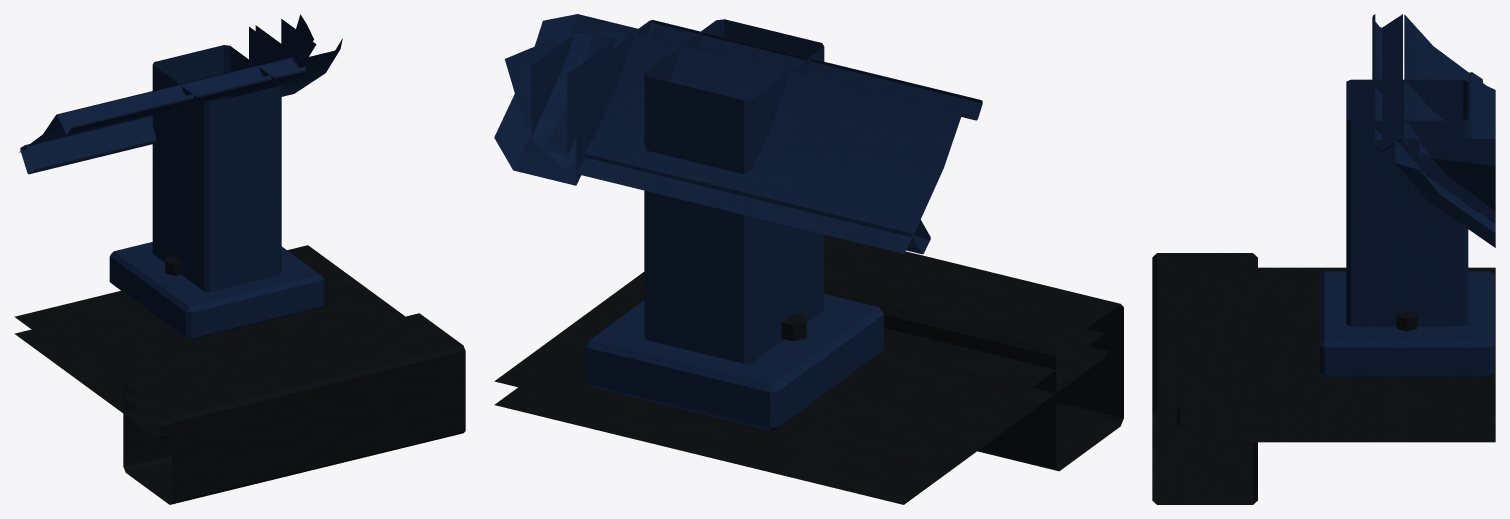
File: cell_22.obj
3 views of the same model, side by side, from view 1: azimuth 30°, elevation 25°; view 2: azimuth 150°, elevation 25°; view 3: azimuth 270°, elevation 25° (orthographic). The views are drawn at different scales.
Visible parts, largest first — view 1: cell_22; view 2: cell_22; view 3: cell_22.
Part boxes in pixels (x1=…): cell_22: x1=14, y1=14, x2=465, y2=504; cell_22: x1=494, y1=14, x2=1123, y2=504; cell_22: x1=1152, y1=14, x2=1495, y2=504.
Bounding box in the file's own units: 1 × 1 × 0.93.
